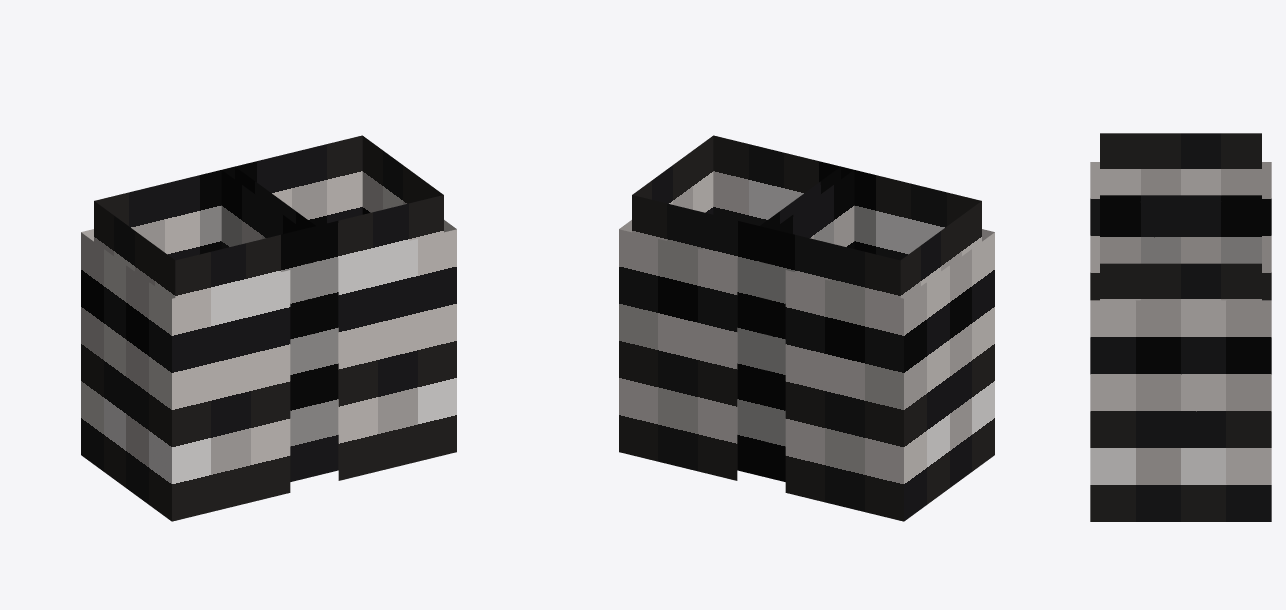
The model's file is sl_leg_warmers.glb.
The picture shows the model from 3 angles, left to right: view 1: azimuth 30°, elevation 25°; view 2: azimuth 150°, elevation 25°; view 3: azimuth 270°, elevation 25°; orthographic projection.
Visible parts, largest first — view 1: bb_leg_warmers; view 2: bb_leg_warmers; view 3: bb_leg_warmers.
Boxes of the visible parts, x1,y1,x2,y2 form: bb_leg_warmers: [81, 135, 456, 521]; bb_leg_warmers: [619, 135, 994, 521]; bb_leg_warmers: [1090, 133, 1271, 521].
Size of the model in its own units: 0.7964 by 0.7938 by 0.2937.
Materials: 1 (1 with a texture image).
